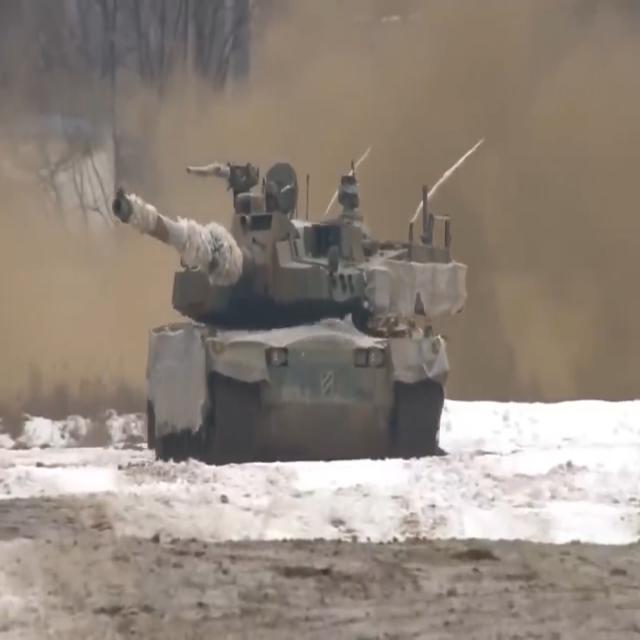korea tank: (107, 157, 471, 467)
